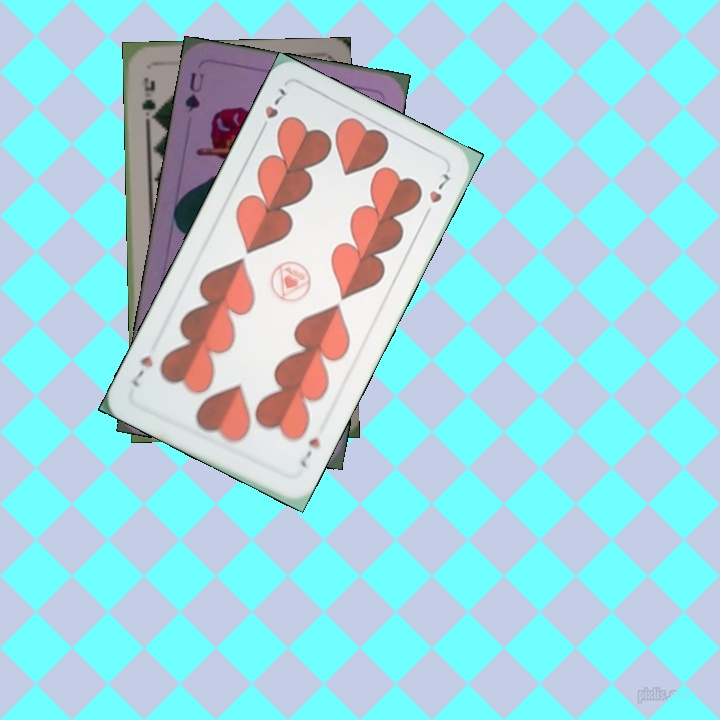G9: (137, 73, 158, 126)
GU: (180, 68, 207, 115)
H7: (255, 83, 288, 137), (295, 433, 323, 470)
